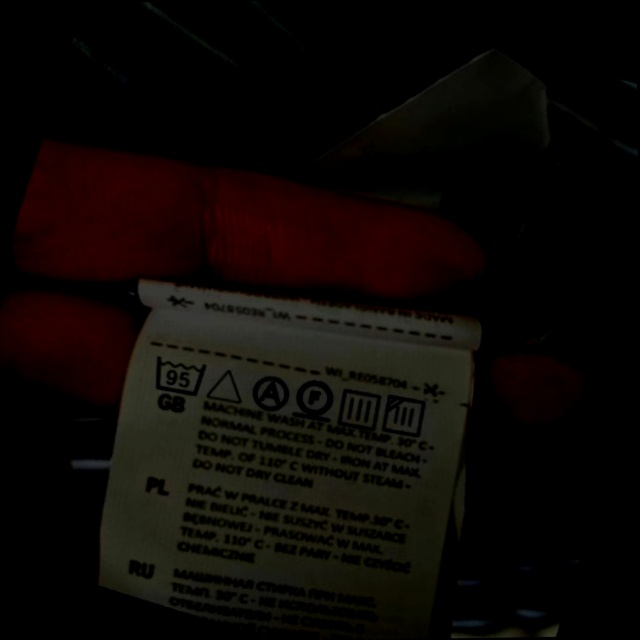95C: (141, 341, 219, 410)
bleach: (198, 354, 255, 415)
drip_dry: (327, 376, 393, 441)
drip_dry_in_shade: (372, 383, 441, 451)
dry_clean: (240, 364, 299, 422)
dry_clean_petrol_only: (284, 365, 347, 432)
